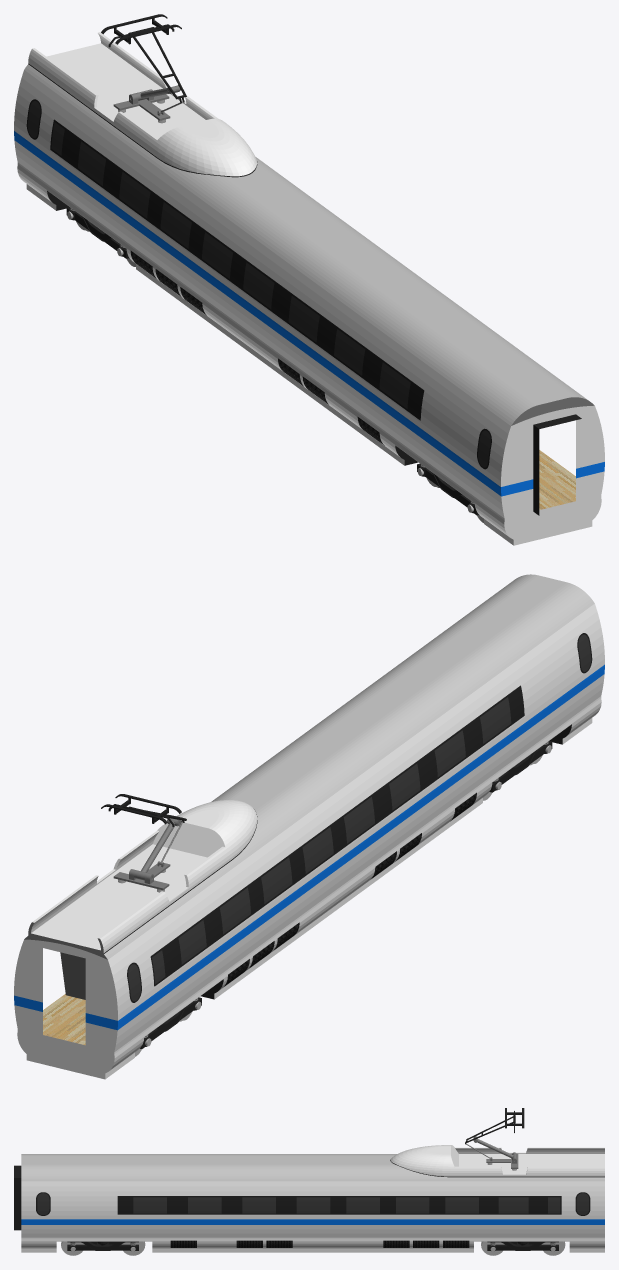
The model's file is VELARO-simple-car4.glb.
The picture shows the model from 3 angles, top to bottom: view 1: azimuth 30°, elevation 25°; view 2: azimuth 150°, elevation 25°; view 3: azimuth 270°, elevation 25°; orthographic projection. The views are drawn at different scales.
Visible parts, largest first — view 1: Componente#4; view 2: Componente#4, bbt4.021; view 3: Componente#4.
Part boxes in pixels (bbox=[...]): Componente#4: bbox=[14, 14, 604, 545]; Componente#4: bbox=[14, 574, 604, 1079]; bbt4.021: bbox=[60, 952, 85, 999]; Componente#4: bbox=[14, 1108, 604, 1252].
Size of the model in its own units: 2.94 by 5.99 by 24.16.
Materials: 12 (2 with a texture image).
